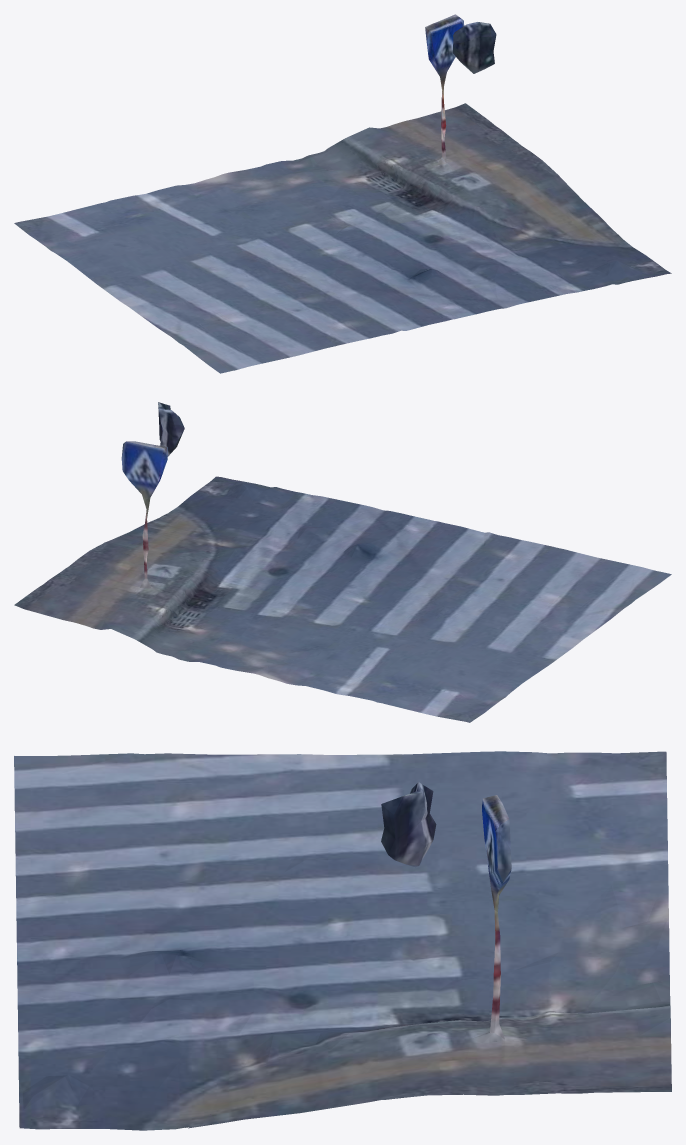
Rendered from Tile_+006_+007_L22_0000310.glb.
3 renders of one model, top to bottom at view 1: azimuth 30°, elevation 25°; view 2: azimuth 150°, elevation 25°; view 3: azimuth 270°, elevation 25°, orthographic. The views are drawn at different scales.
Visible parts, largest first — view 1: rtc; view 2: rtc; view 3: rtc.
Part boxes in pixels (left/top/right/bottom): rtc: left=14, top=14, right=671, bottom=373; rtc: left=14, top=402, right=671, bottom=722; rtc: left=14, top=751, right=671, bottom=1130.
Size of the model in its own units: 8.86 by 3.33 by 6.93.
1 material, 1 textured.
